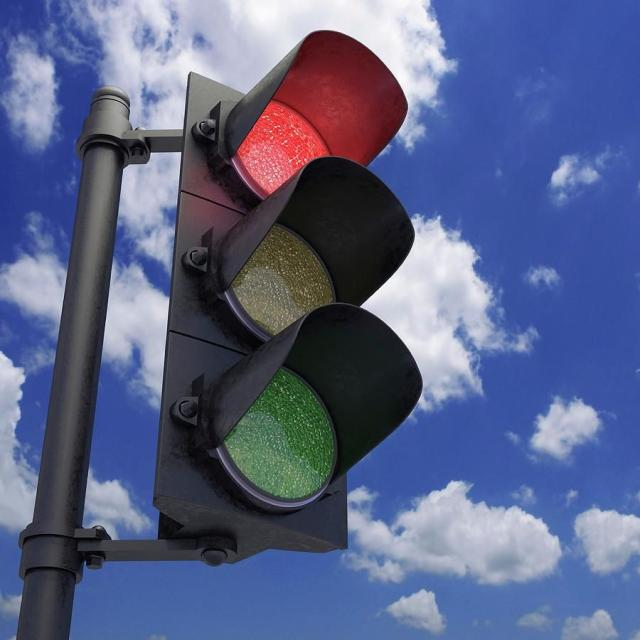red: (201, 82, 363, 208)
